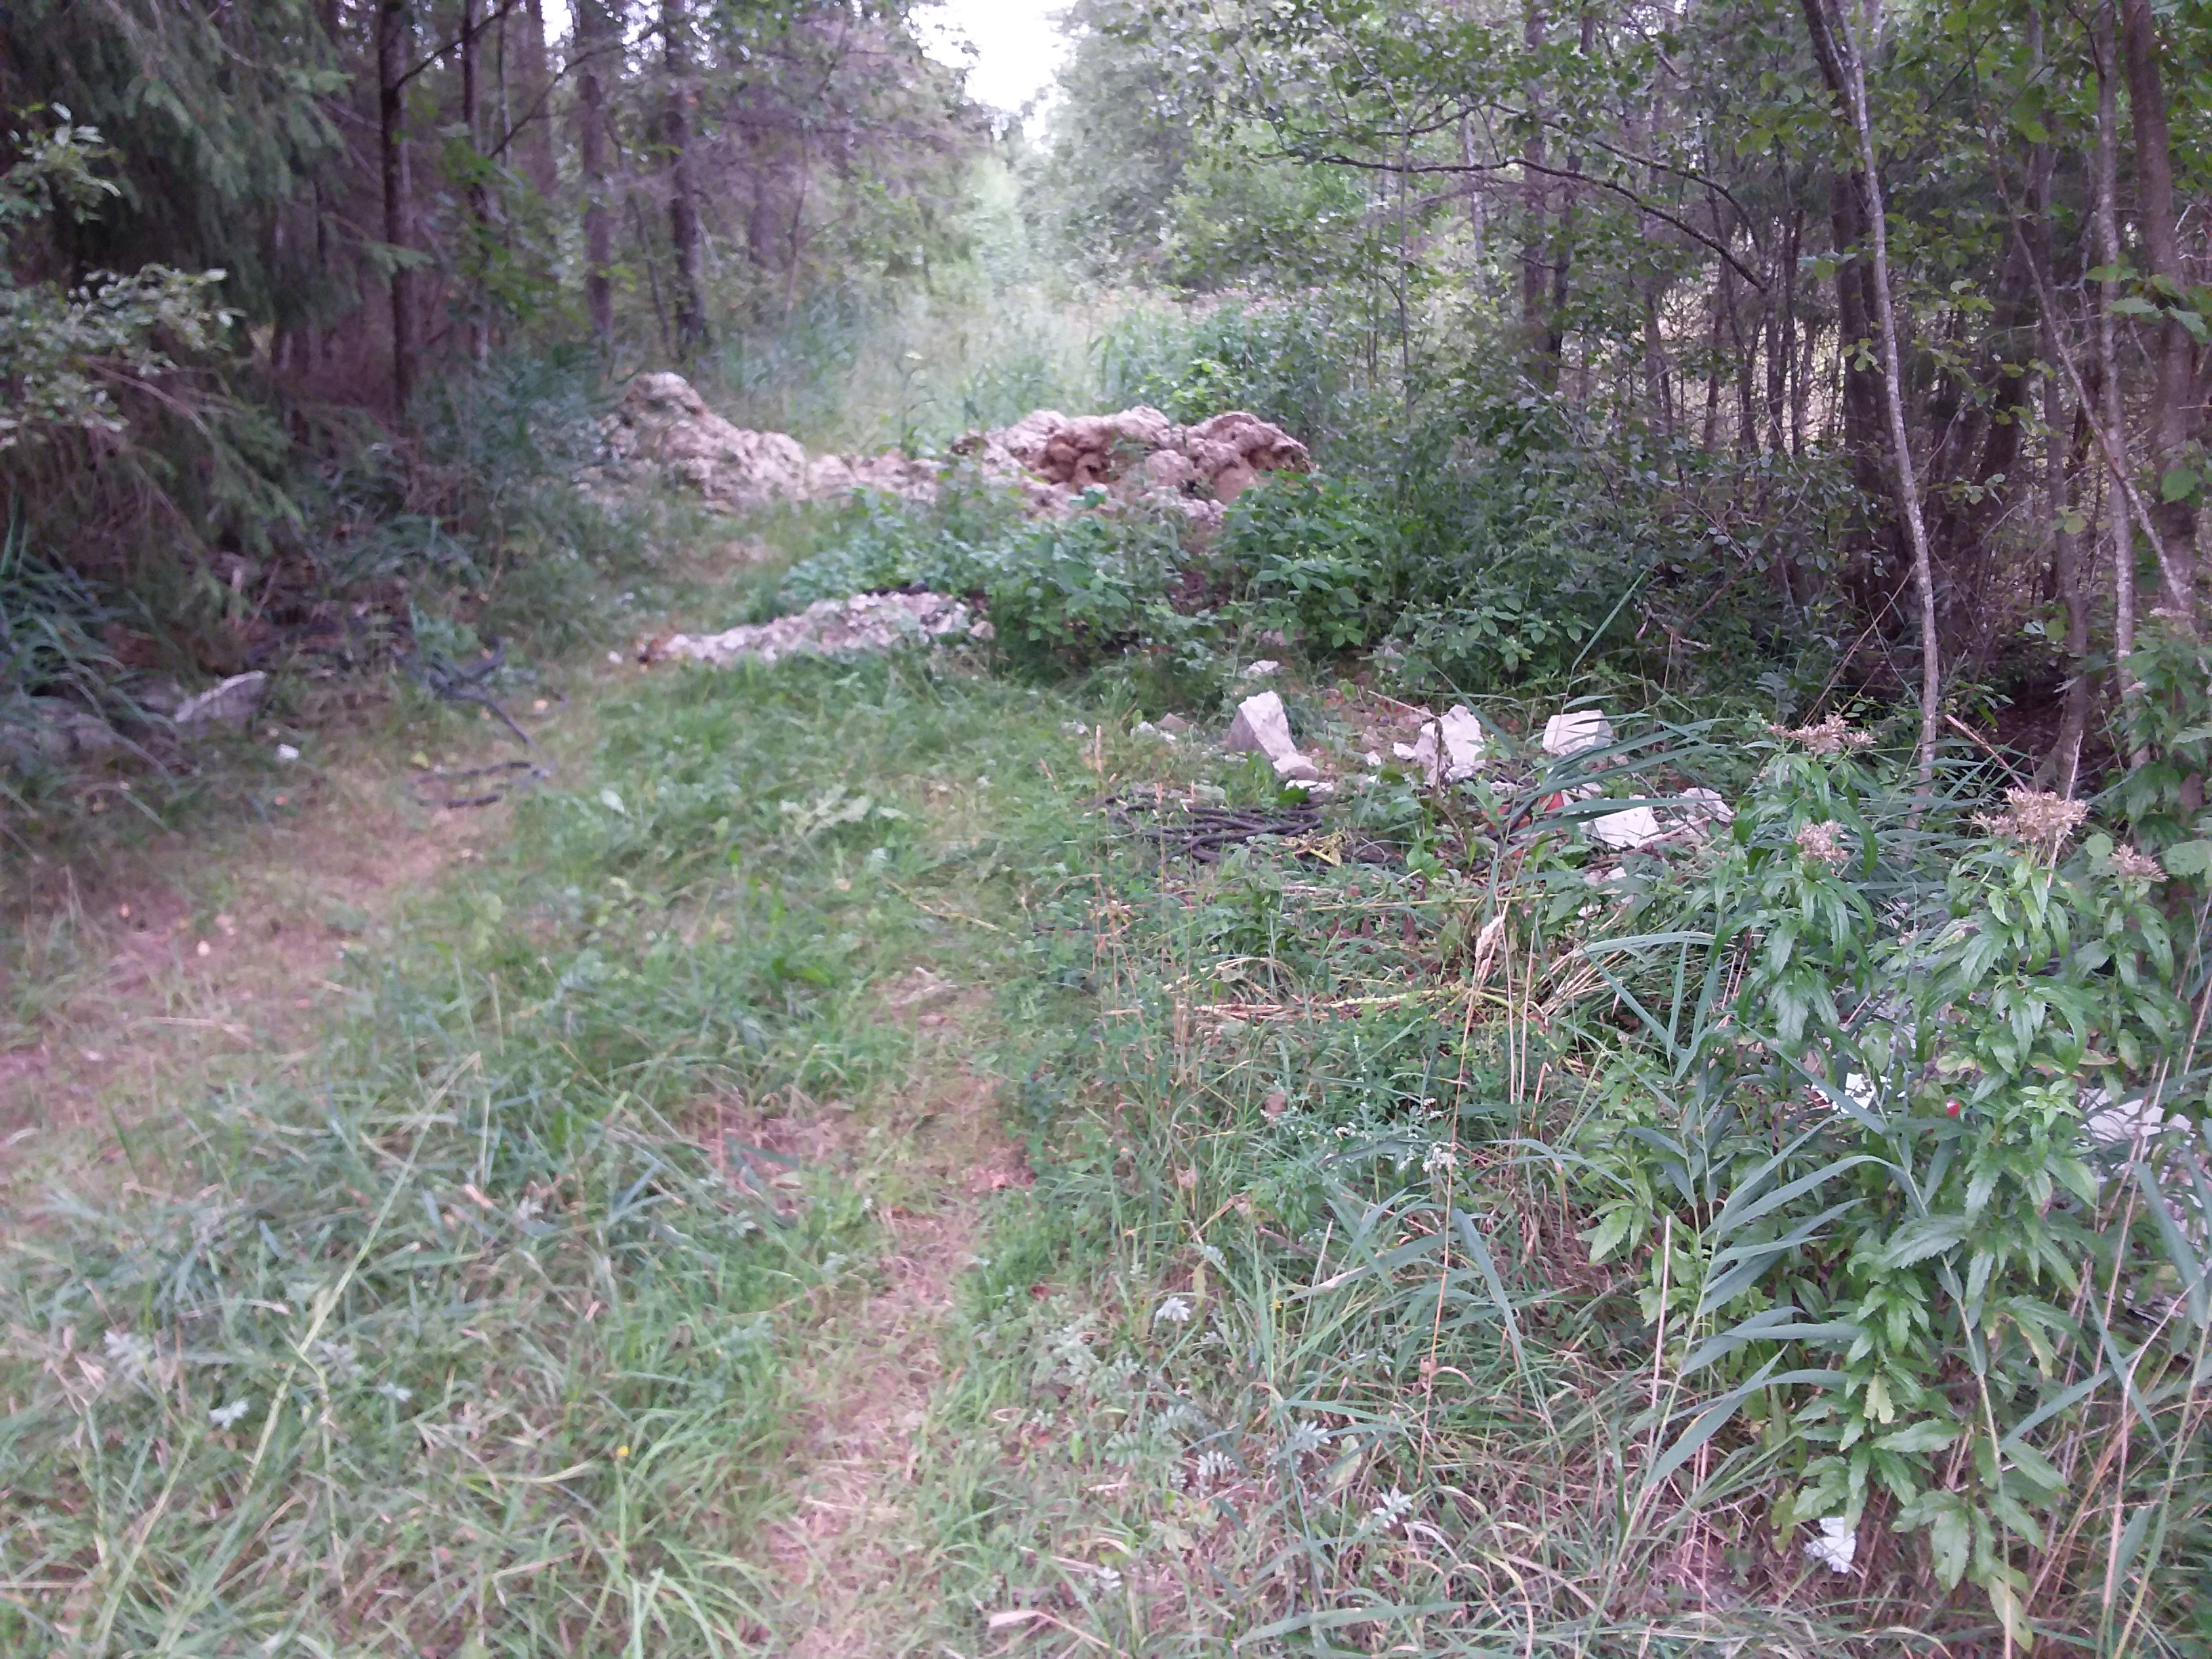trash: (1205, 659, 2062, 941)
